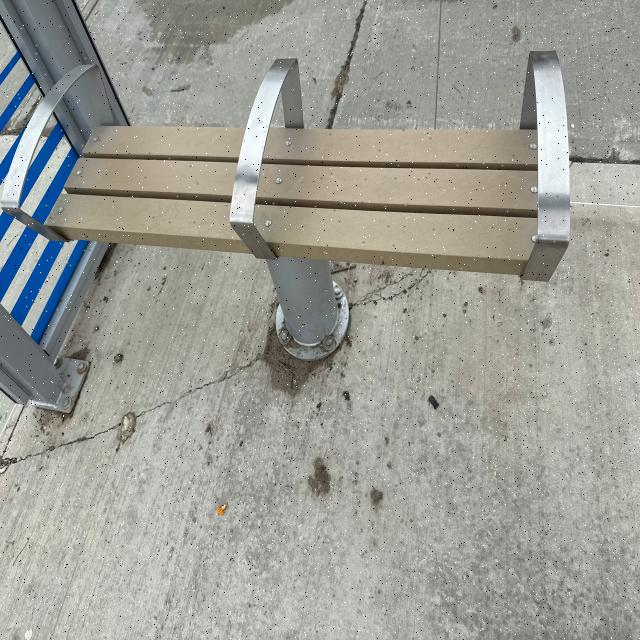Bench: (23, 38, 565, 375)
